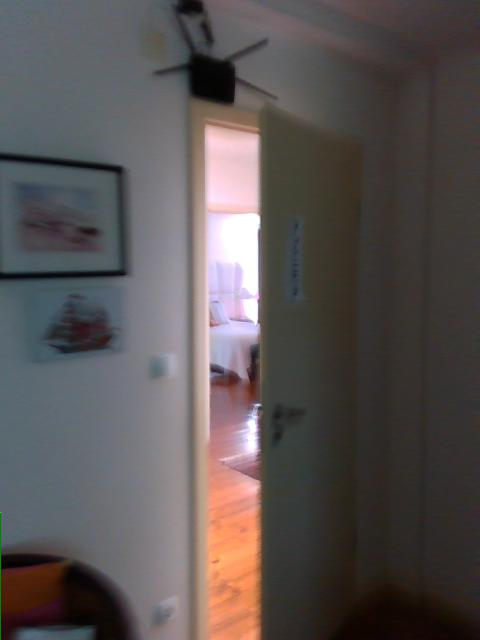semi_door: (187, 91, 367, 639)
